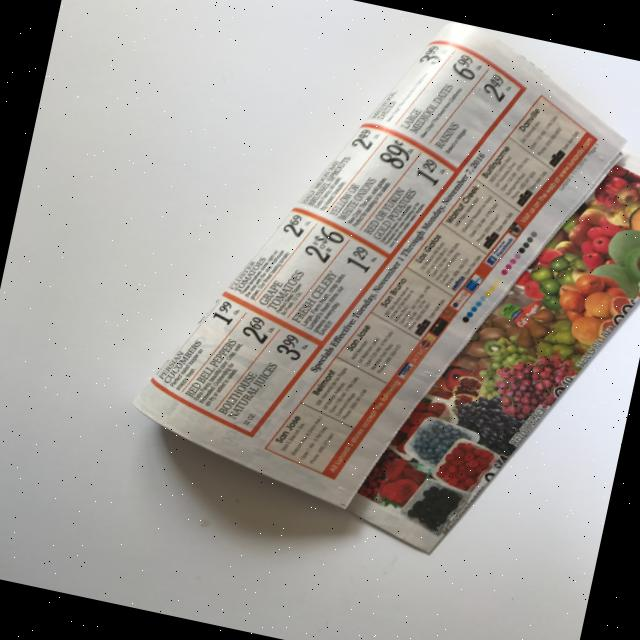paper: (116, 0, 640, 560)
